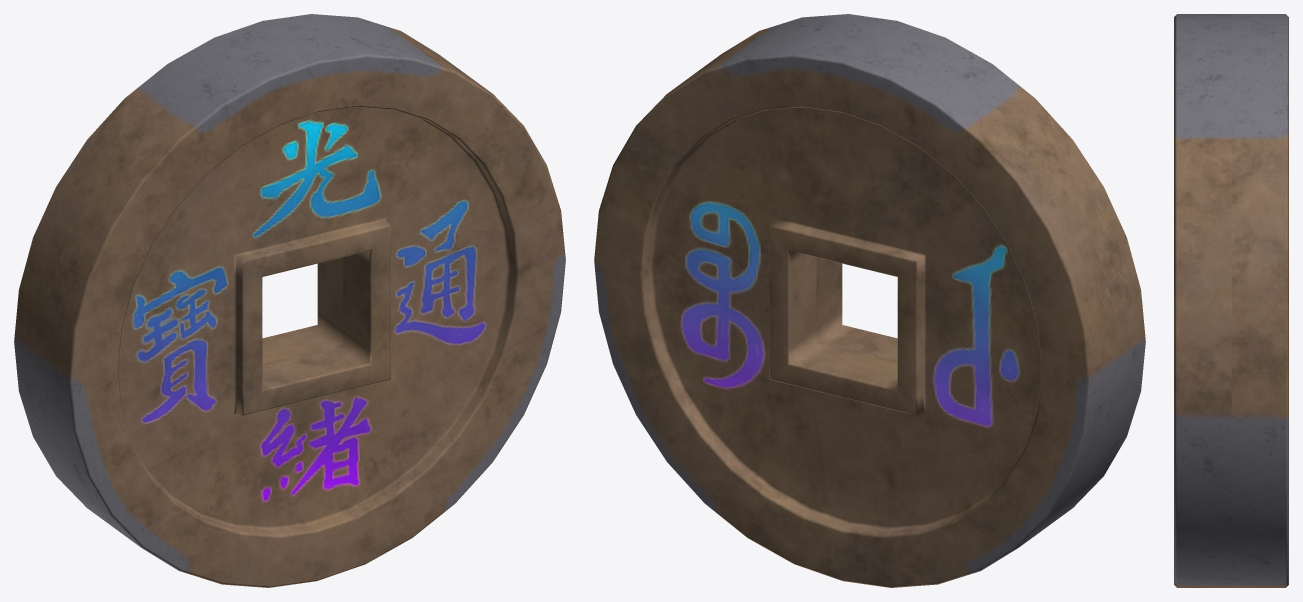
Rendered from Moneda.fbx.
The picture shows the model from 3 angles, left to right: view 1: azimuth 30°, elevation 25°; view 2: azimuth 150°, elevation 25°; view 3: azimuth 270°, elevation 25°; orthographic projection.
Parts seen in each view (by area): view 1: Cylinder; view 2: Cylinder; view 3: Cylinder.
Boxes of the visible parts, x1,y1,x2,y2 form: Cylinder: (14, 14, 565, 587); Cylinder: (594, 14, 1145, 587); Cylinder: (1174, 14, 1288, 587).
Bounding box in the file's own units: 200 × 200 × 40.
1 material, 1 textured.
